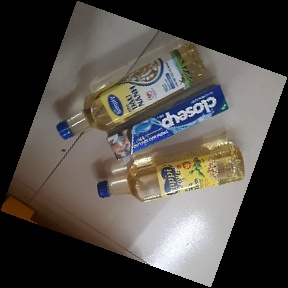CloseUp Tuyet: (106, 84, 229, 162)
Happy Soya: (96, 141, 246, 201)
Simply: (54, 43, 208, 140)
